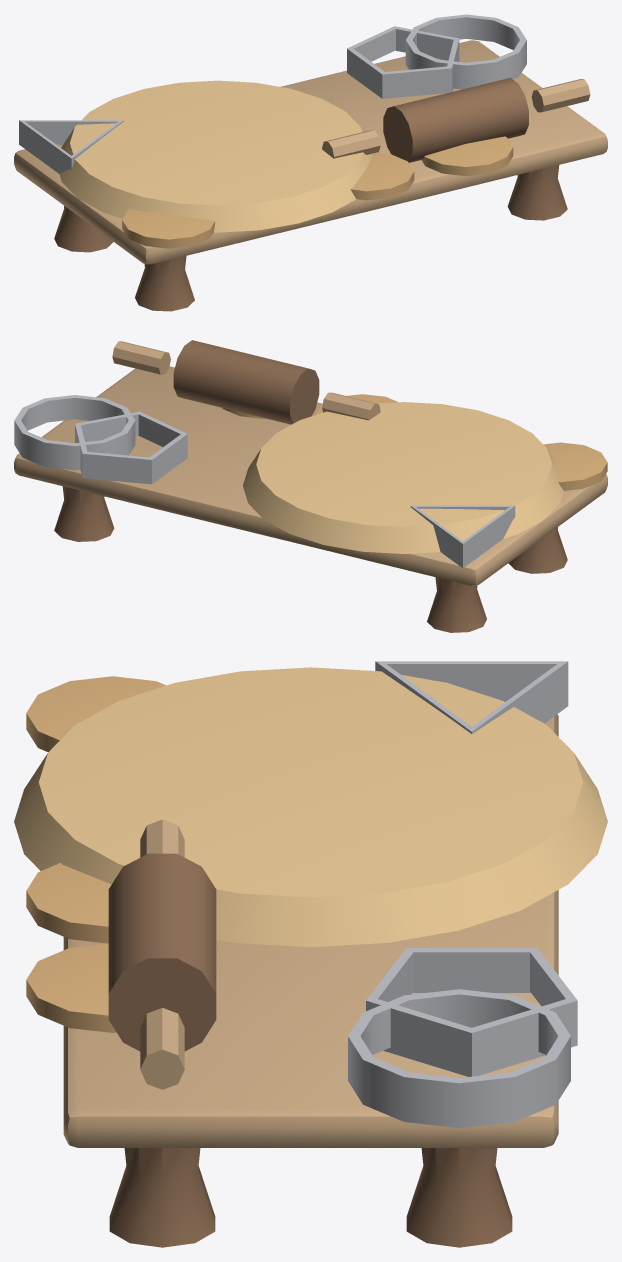
The model's file is Bakery_DoughTable_Small.fbx.
3 renders of one model, top to bottom at view 1: azimuth 30°, elevation 25°; view 2: azimuth 150°, elevation 25°; view 3: azimuth 270°, elevation 25°, orthographic. The views are drawn at different scales.
Visible parts, largest first — view 1: Bakery_DoughTable_Small; view 2: Bakery_DoughTable_Small; view 3: Bakery_DoughTable_Small.
Boxes of the visible parts, x1,y1,x2,y2 form: Bakery_DoughTable_Small: (14,14,607,311); Bakery_DoughTable_Small: (14,340,607,632); Bakery_DoughTable_Small: (14,661,607,1247).
Bounding box in the file's own units: 8.32 × 2.18 × 4.8.
